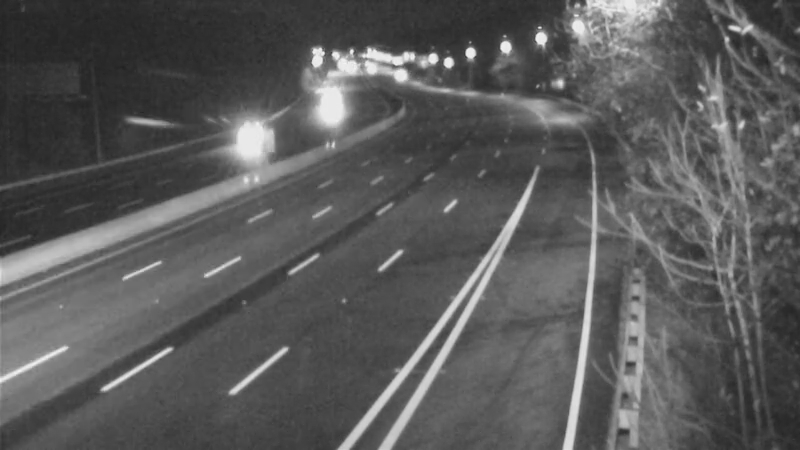vehicle: (367, 48, 417, 98), (218, 117, 268, 167), (306, 82, 356, 132)
